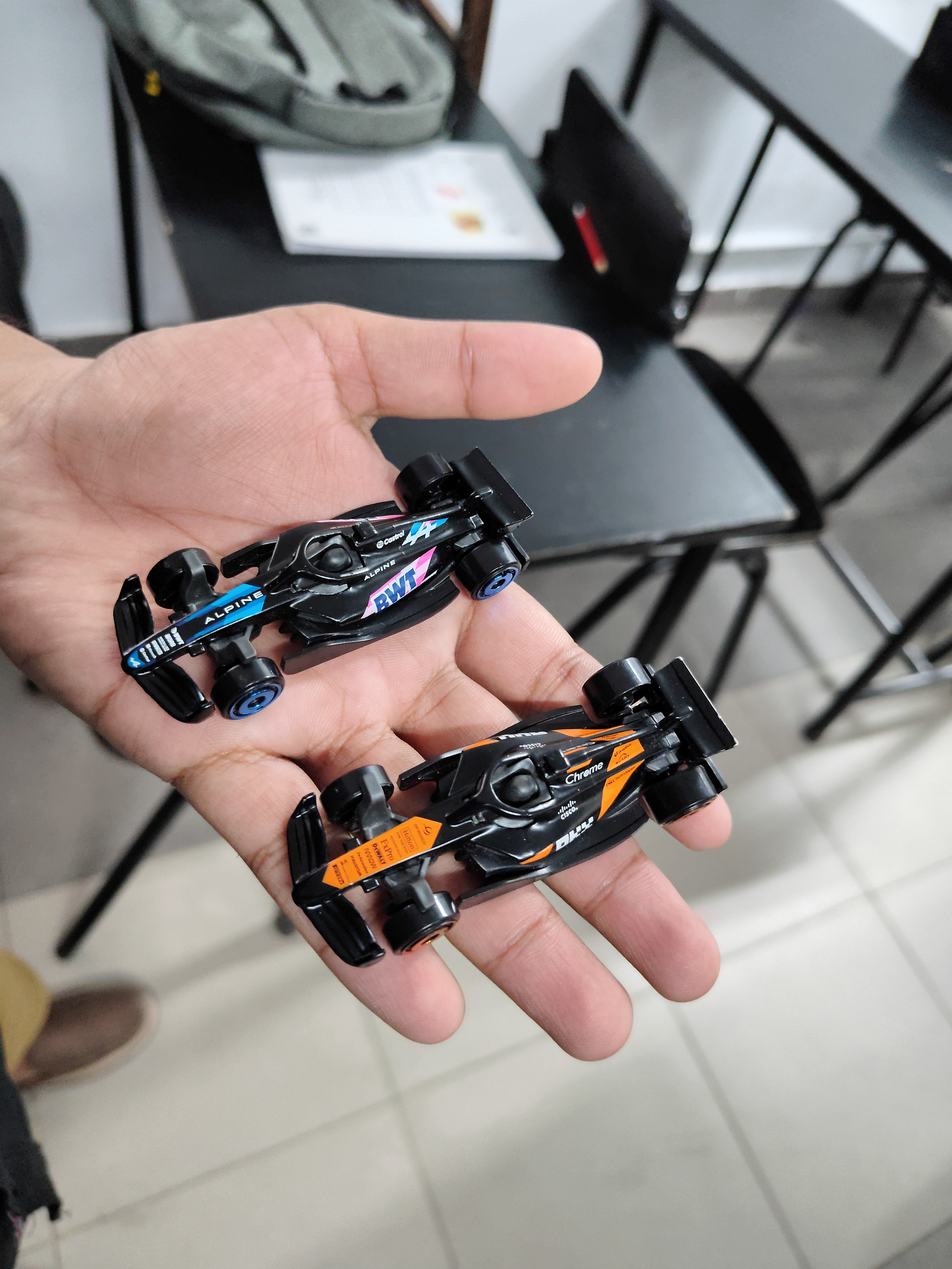Alpine A524: (74, 499, 640, 697)
McLaren MCL40: (184, 733, 762, 906)
